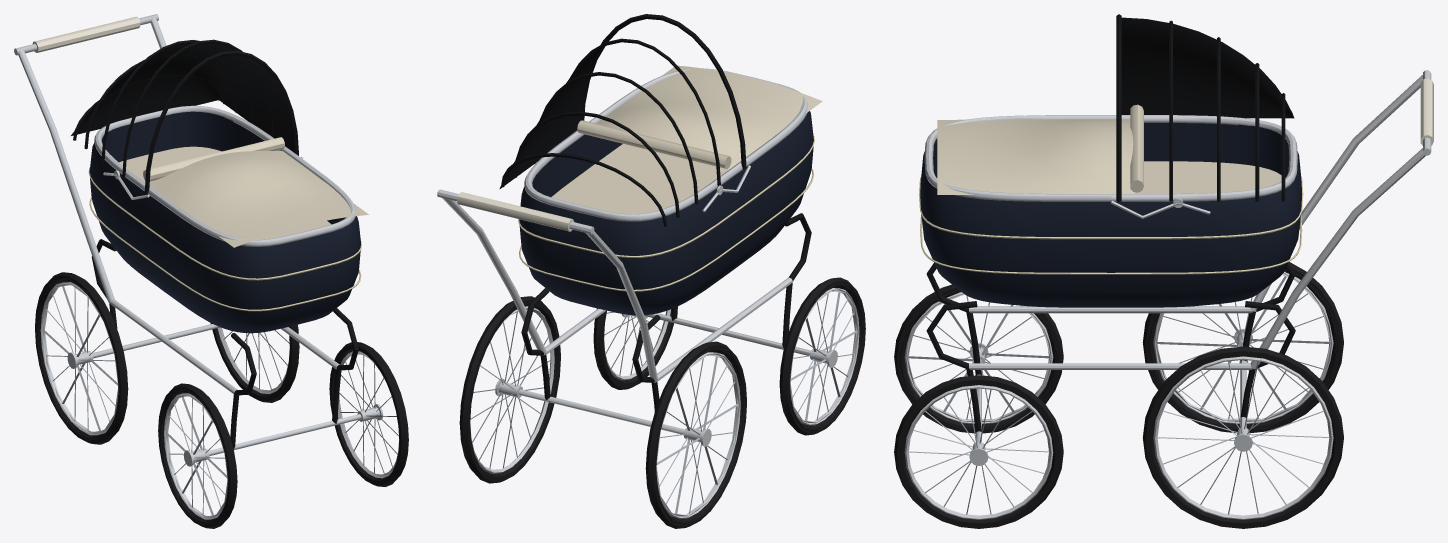
Rendered from pram.4b8575f8.glb.
3 views of the same model, side by side, from view 1: azimuth 30°, elevation 25°; view 2: azimuth 150°, elevation 25°; view 3: azimuth 270°, elevation 25° (orthographic). The views are drawn at different scales.
Parts seen in each view (by area): view 1: pram_body, pram_wheel_r_left, pram_wheel_f, pram_wheel_f_left, pram_wheel_r_lod1_left, pram_wheel_r, pram_wheel_f_lod1_left; view 2: pram_body, pram_wheel_r, pram_wheel_r_left, pram_wheel_f_left, pram_wheel_r_lod1_left, pram_wheel_f_lod1_left, pram_wheel_f; view 3: pram_body, pram_wheel_r, pram_wheel_f, pram_wheel_r_left, pram_wheel_f_left, pram_wheel_r_lod1_left, pram_wheel_f_lod1_left.
Part boxes in pixels (x1,y1,x2,y2): pram_body: (14,14,368,455); pram_wheel_r_left: (35,272,128,444); pram_wheel_f: (329,342,408,486); pram_wheel_f_left: (158,383,237,528); pram_wheel_r_lod1_left: (35,278,119,440); pram_wheel_r: (210,323,299,402); pram_wheel_f_lod1_left: (158,389,229,524); pram_body: (437,14,822,434); pram_wheel_r: (459,296,560,483); pram_wheel_r_left: (645,341,746,528); pram_wheel_f_left: (779,277,865,435); pram_wheel_r_lod1_left: (654,348,746,524); pram_wheel_f_lod1_left: (788,283,864,430); pram_wheel_f: (593,308,673,389); pram_body: (919,14,1433,441); pram_wheel_r: (1142,346,1343,528); pram_wheel_f: (894,375,1063,528); pram_wheel_r_left: (1142,261,1343,433); pram_wheel_f_left: (894,284,1063,433); pram_wheel_r_lod1_left: (1147,269,1339,429); pram_wheel_f_lod1_left: (899,289,1058,429).
Size of what is drawn, in the model's own units: 0.636 by 1.29 by 1.37.
1 material, 1 textured.
